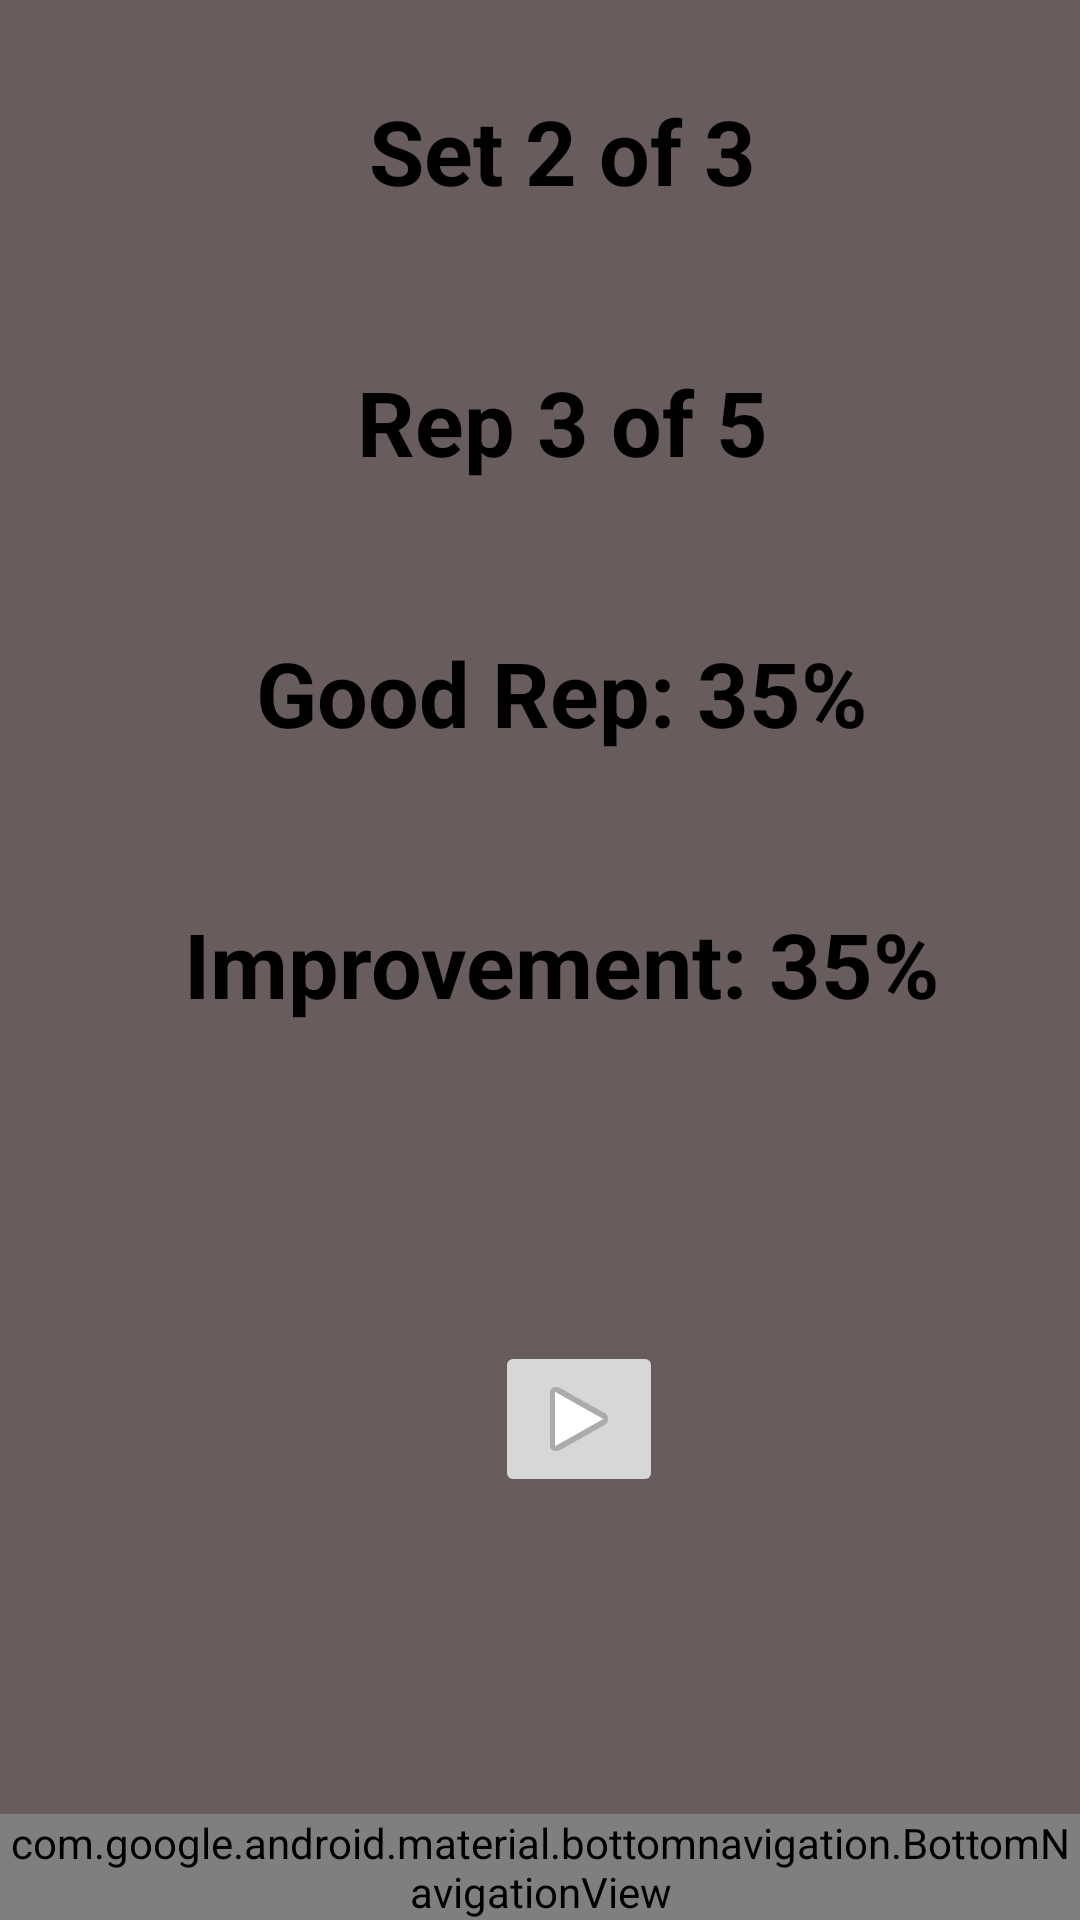

Named icons in this screenshot (1080*1920) and their centers, point (x, y):
play: point (579, 1419)
